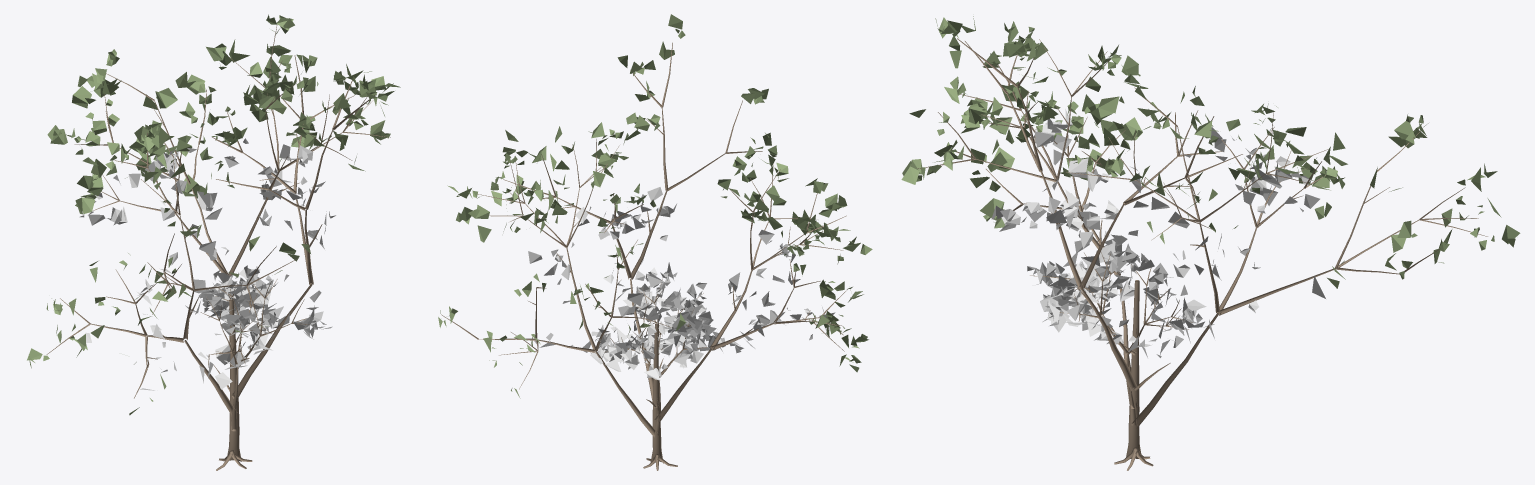
The model's file is tree-a.glb.
3 renders of one model, left to right at view 1: azimuth 30°, elevation 25°; view 2: azimuth 150°, elevation 25°; view 3: azimuth 270°, elevation 25°, orthographic. The views are drawn at different scales.
Visible parts, largest first — view 1: leaf, leafDeep, wood; view 2: leaf, leafDeep, wood; view 3: leaf, leafDeep, wood.
Part boxes in pixels (<box>): leaf: <box>27,14,400,415</box>; leafDeep: <box>79,138,335,390</box>; wood: <box>46,24,390,470</box>; leaf: <box>438,14,872,398</box>; leafDeep: <box>528,187,835,380</box>; wood: <box>441,42,847,470</box>; leaf: <box>901,16,1520,288</box>; leafDeep: <box>991,109,1325,357</box>; wood: <box>917,38,1487,470</box>.
Size of the model in its own units: 20.94 by 20.62 by 23.96.
